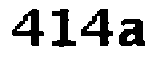1: (48, 5, 78, 49)
4: (7, 7, 45, 49), (79, 7, 115, 51)
a: (118, 18, 147, 48)
